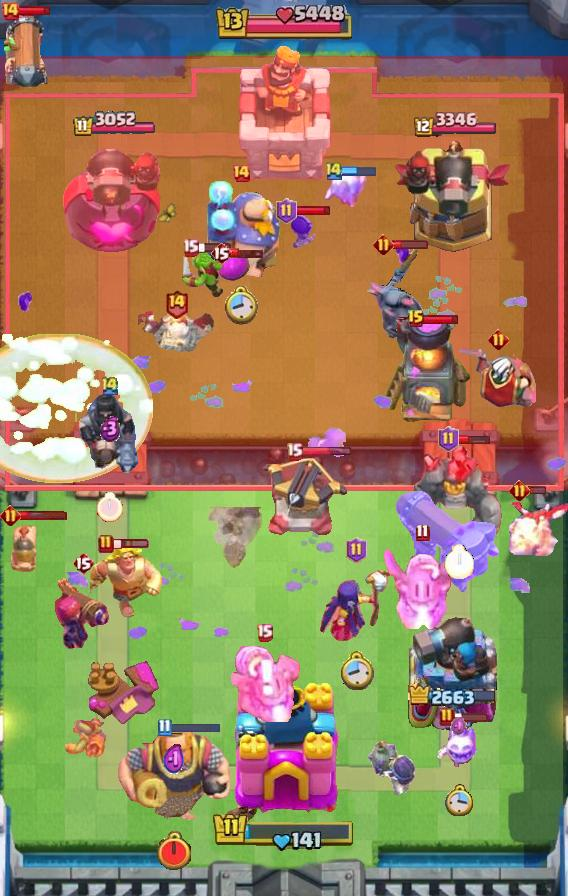axe: (318, 568, 394, 642)
battle-healer: (0, 12, 50, 100)
cannoneer-tower: (412, 443, 506, 539)
clock: (212, 811, 356, 853), (213, 5, 355, 43)
electro-spirit: (163, 743, 185, 777), (99, 415, 121, 442), (451, 716, 467, 736)
elixir: (155, 832, 193, 873), (338, 650, 374, 691), (224, 286, 258, 326), (444, 545, 474, 579), (446, 784, 474, 816), (97, 492, 123, 522)
emote: (169, 721, 221, 735), (300, 446, 352, 457), (18, 511, 68, 522), (343, 163, 378, 176), (296, 204, 333, 216), (113, 538, 150, 550), (196, 241, 232, 253), (229, 247, 265, 259), (453, 711, 489, 723), (391, 238, 429, 249), (423, 315, 461, 326), (15, 5, 52, 16), (456, 434, 492, 445), (528, 485, 548, 495)
executioner: (7, 520, 39, 578)
fisherman: (207, 506, 265, 569)
furnace: (393, 487, 501, 597)
giant-skeleton: (116, 723, 232, 823)
giant-snowball: (60, 716, 108, 758)
goblin: (289, 215, 315, 251)
goblin-ball: (365, 735, 419, 797)
goblin-hut: (74, 540, 166, 624)
golemite: (361, 245, 431, 355)
hunter: (384, 315, 472, 425)
inferno-dragon: (78, 392, 142, 476)
king-tower: (222, 680, 346, 826), (230, 43, 338, 181)
lava-pup: (260, 457, 348, 539)
little-prince: (197, 179, 285, 279)
mega-minion: (54, 577, 112, 651)
miner: (219, 251, 251, 281)
mini-pekka: (498, 493, 568, 559), (138, 308, 214, 356)
mirror: (435, 721, 483, 769), (320, 169, 370, 207)
night-witch: (382, 545, 462, 629), (223, 646, 305, 722)
phoenix-big: (0, 333, 154, 483)
selected: (409, 683, 500, 710), (412, 112, 497, 140), (71, 111, 156, 138)
skeleton-king: (456, 343, 540, 409)
text: (163, 289, 188, 320), (275, 198, 296, 224), (437, 426, 458, 452), (346, 537, 367, 563), (210, 241, 232, 265), (72, 551, 94, 575), (509, 479, 531, 501), (373, 233, 394, 254), (488, 329, 509, 350), (324, 159, 344, 181), (0, 505, 20, 527), (100, 376, 120, 397), (0, 1, 20, 21), (231, 163, 251, 183), (407, 309, 425, 329), (181, 239, 199, 258), (286, 442, 303, 461), (98, 534, 114, 554), (439, 707, 455, 727), (256, 623, 273, 641), (415, 523, 430, 541), (156, 719, 171, 737)
tower-bar: (392, 138, 514, 256), (62, 138, 166, 256), (407, 611, 499, 731)
zap: (180, 250, 226, 300)
